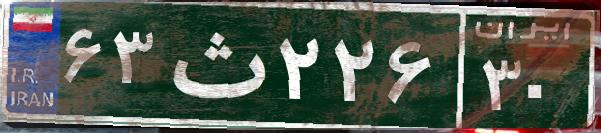0: (525, 38, 570, 115)
2: (273, 28, 330, 110), (330, 28, 385, 110)
3: (475, 38, 525, 113), (110, 28, 158, 105)
6: (385, 28, 445, 110), (57, 26, 110, 107)
ث: (158, 15, 273, 115)
